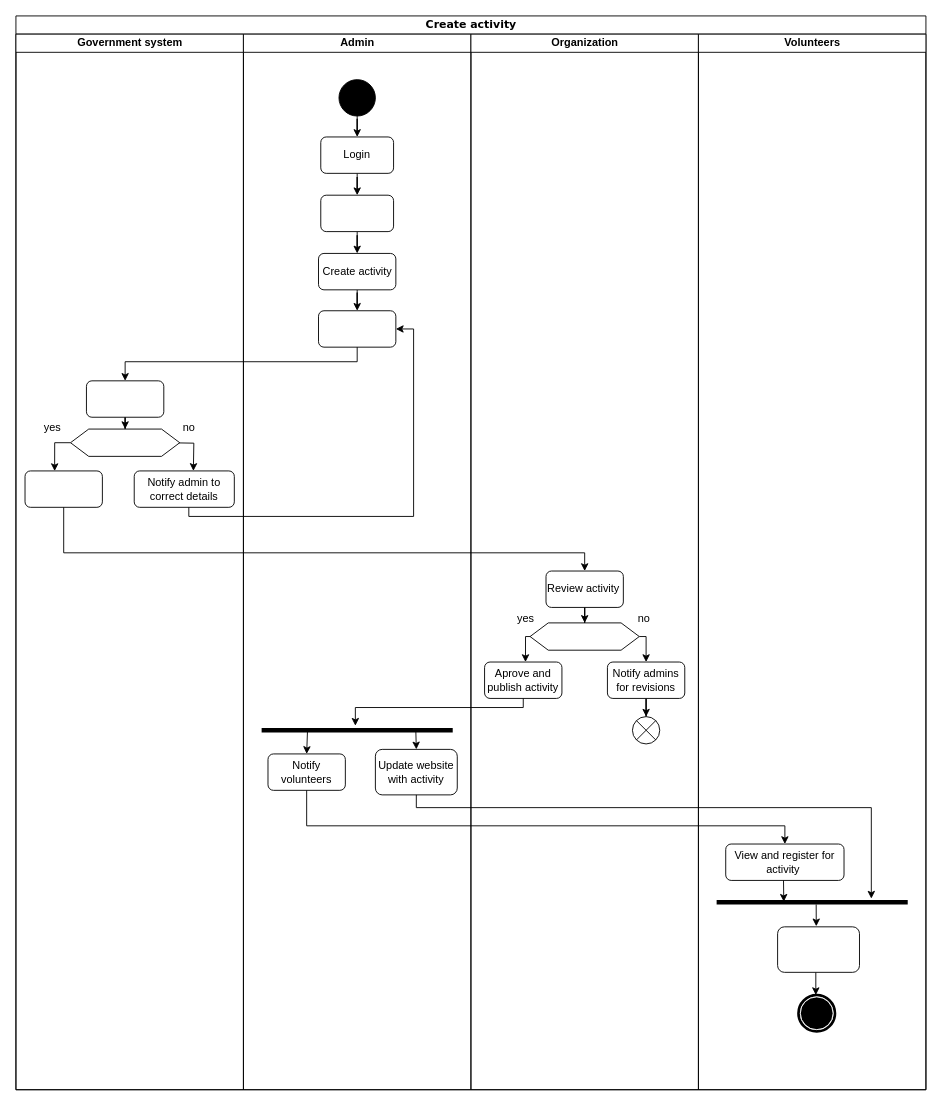
The diagram is 942 pixels wide and 1106 high, and some of its shapes have lost their labels. The centre of each missing label's shape, as x and y in pixels:
"Access dashboard" goes at point (357, 213).
"Activity aproved" goes at point (584, 636).
"Details valid" goes at point (125, 442).
"Enter activity details" goes at point (357, 328).
"Give authority" goes at point (63, 488).
"Track volunteer registration" goes at point (818, 949).
"Validate activity details" goes at point (125, 398).
